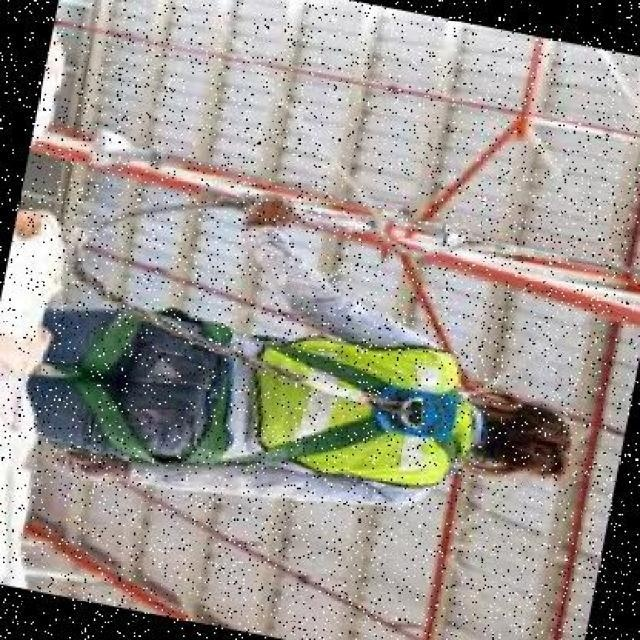Arnes_seguridad: (62, 289, 487, 528)
